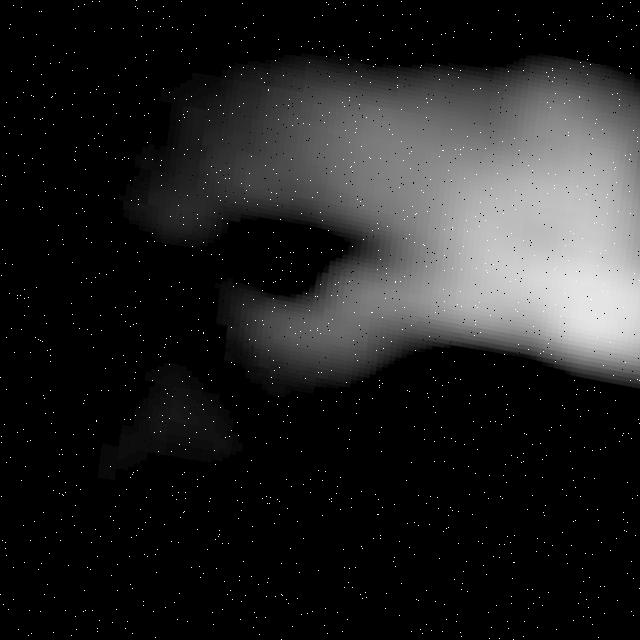person: (117, 10, 640, 439)
